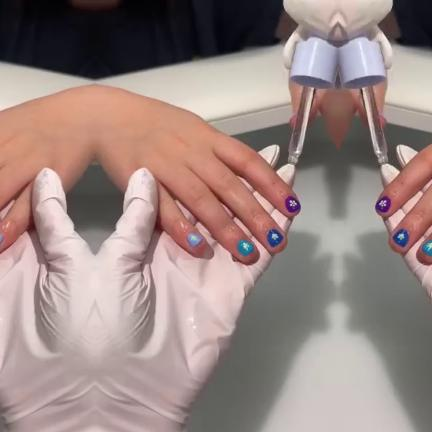Nail: (266, 229, 283, 248), (391, 229, 408, 248), (236, 239, 253, 257), (284, 196, 300, 213), (374, 196, 390, 213), (186, 232, 202, 248), (421, 239, 432, 257), (0, 233, 2, 243)
